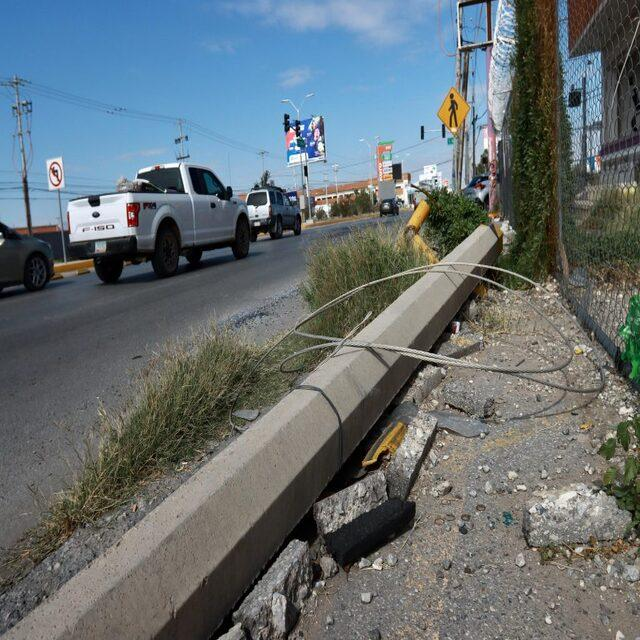Inclined Pole: (0, 225, 503, 640)
